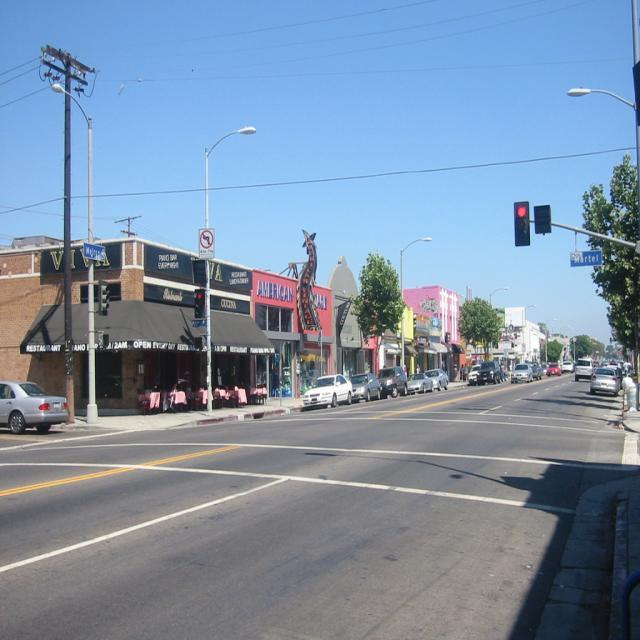off traffic light: (98, 281, 110, 316)
road_sign: (200, 228, 215, 249)
traffic light: (513, 200, 530, 245), (193, 289, 206, 317)
